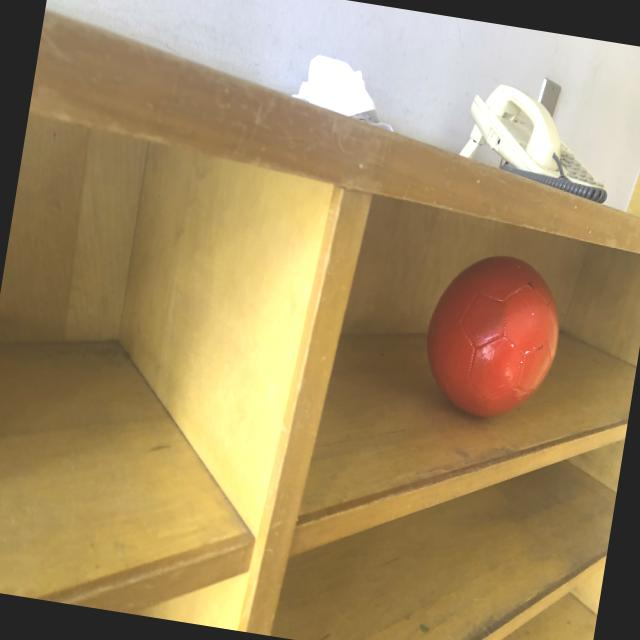red_ball: (416, 247, 570, 430)
